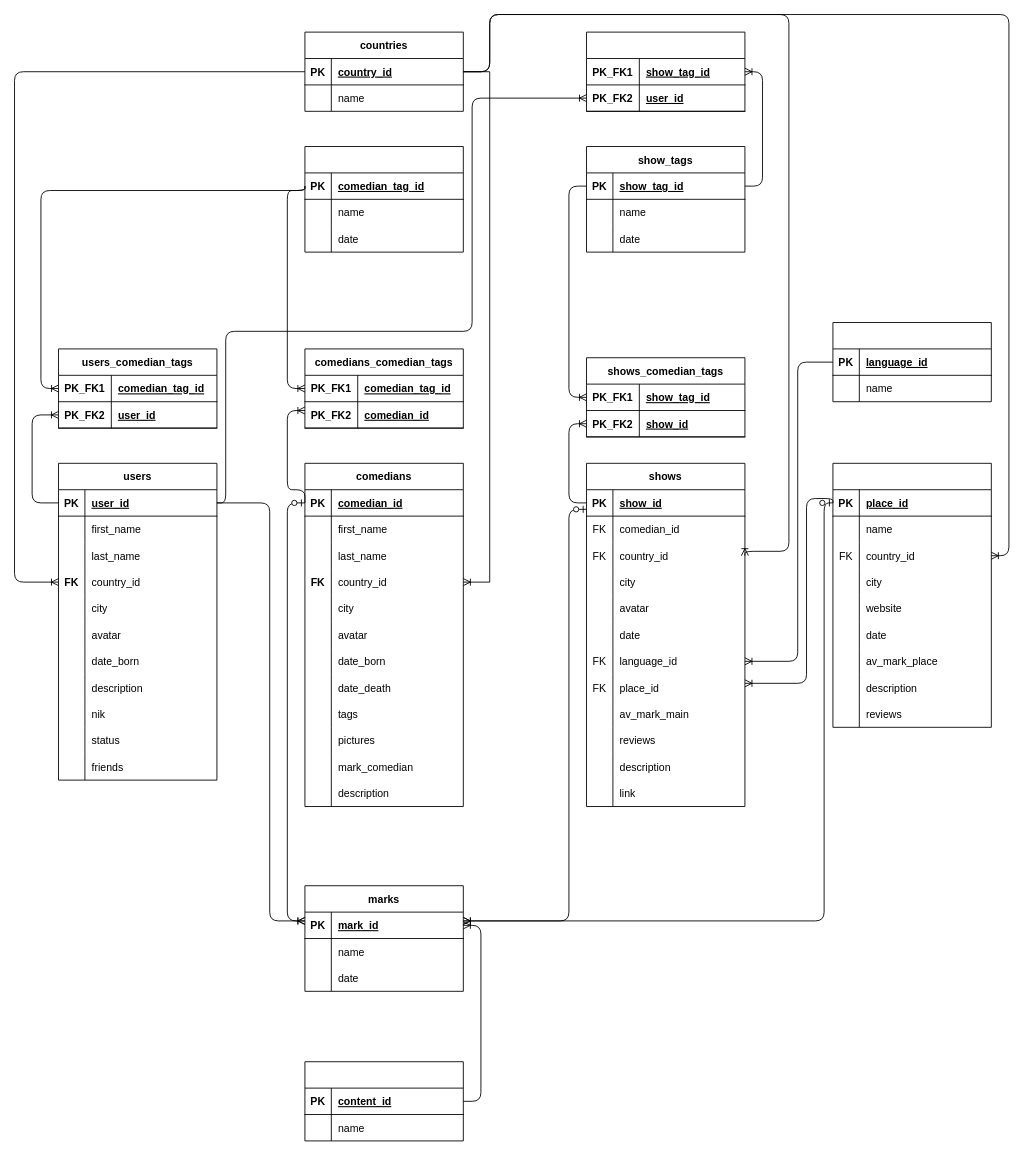
The diagram is 1023 pixels wide and 1155 high, and some of its shapes have lost their labels. The shapes that lost their labels are listed below. From the top down, each one's box as (x1, y1, x2, y2) in pixels, then its label:
(586, 31, 745, 111): users_show_tags
(304, 146, 463, 252): comedian_tags
(832, 322, 991, 402): languages
(832, 462, 991, 727): places
(304, 1061, 463, 1141): contents
